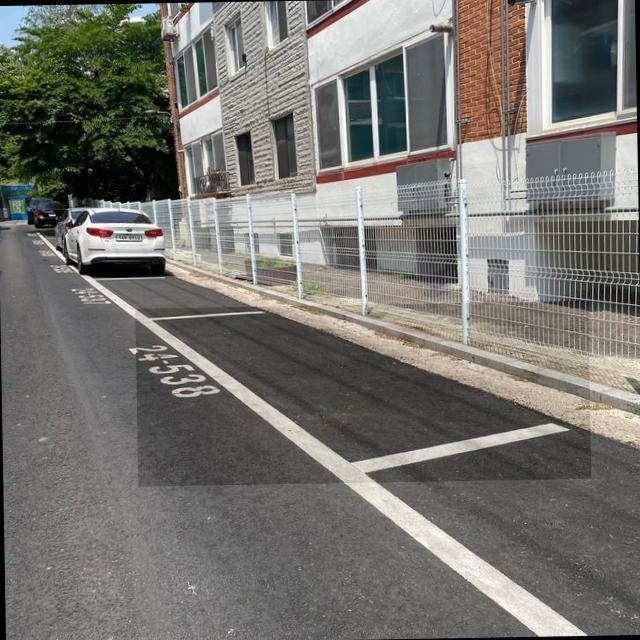empty: (135, 307, 590, 483)
